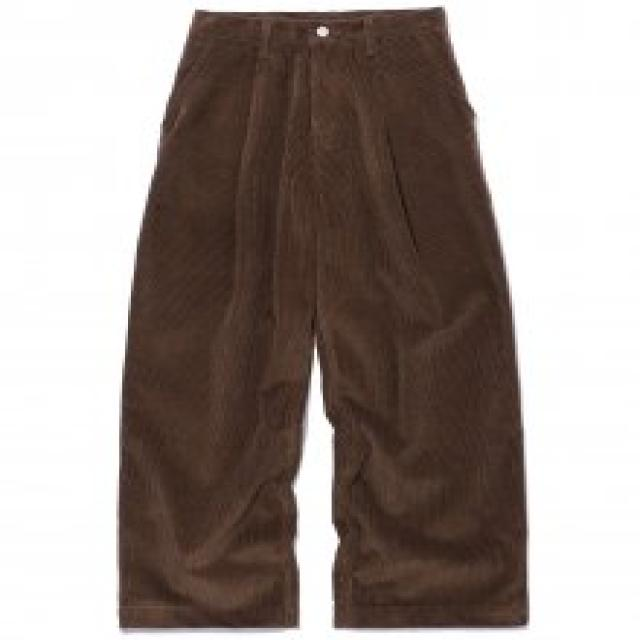long-pants: (119, 7, 531, 636)
